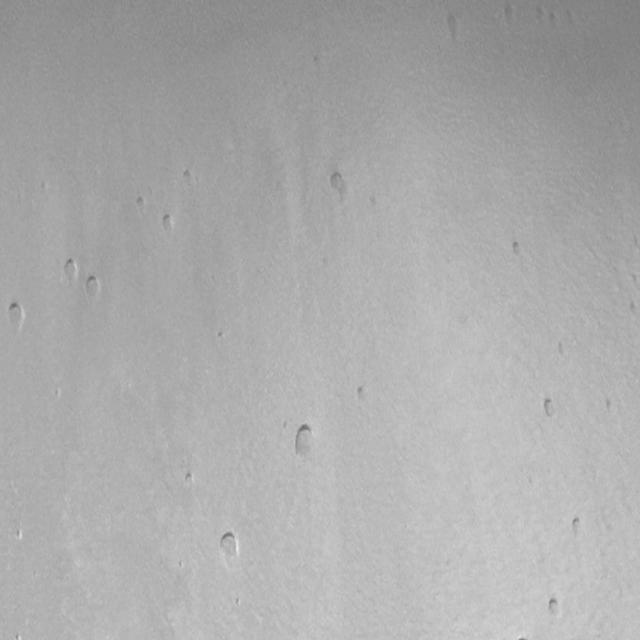pin holes: (291, 422, 318, 461), (215, 530, 241, 566), (326, 170, 351, 205), (3, 300, 26, 334), (443, 12, 466, 42), (60, 256, 79, 286), (545, 596, 566, 622), (539, 395, 560, 421), (567, 514, 587, 541), (84, 274, 102, 302), (158, 213, 177, 239), (354, 384, 372, 407), (510, 238, 525, 258), (133, 194, 148, 213), (182, 167, 196, 186), (185, 470, 198, 490), (232, 593, 245, 609), (217, 329, 230, 343), (14, 630, 25, 640)
